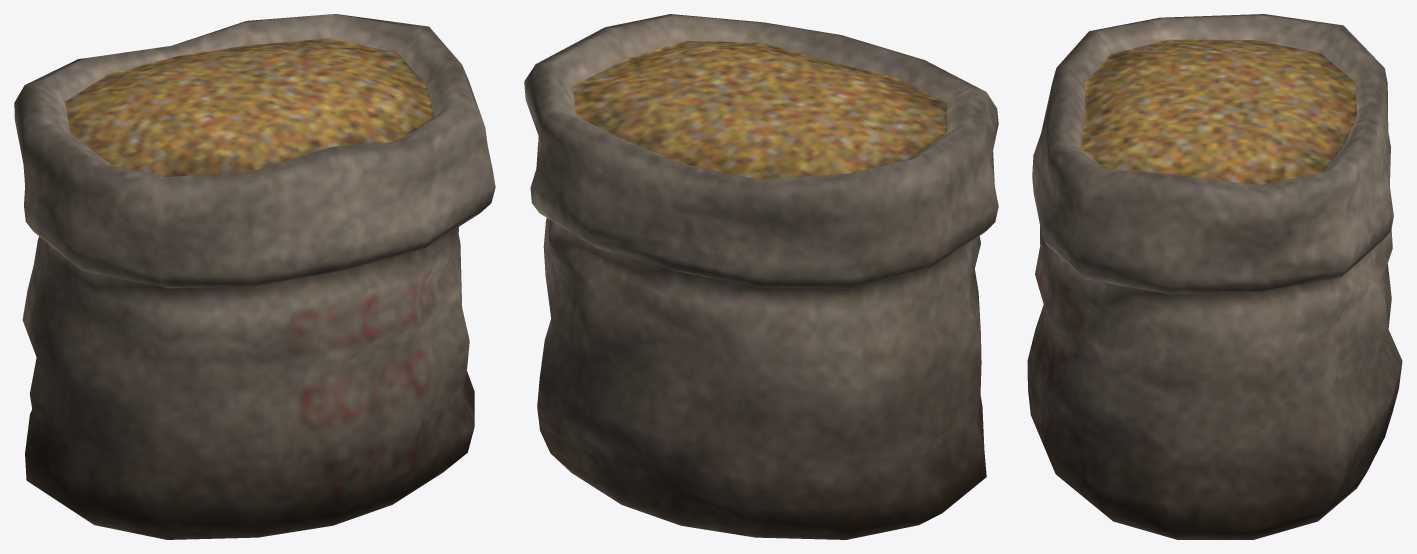
Rendered from SM_FAR_CornSack_Small_01.fbx.
3 renders of one model, left to right at view 1: azimuth 30°, elevation 25°; view 2: azimuth 150°, elevation 25°; view 3: azimuth 270°, elevation 25°, orthographic. The views are drawn at different scales.
Visible parts, largest first — view 1: SM_FAR_CornSack_Small_01.mo; view 2: SM_FAR_CornSack_Small_01.mo; view 3: SM_FAR_CornSack_Small_01.mo.
Part boxes in pixels (left/top/right/bottom): SM_FAR_CornSack_Small_01.mo: left=14, top=14, right=495, bottom=539; SM_FAR_CornSack_Small_01.mo: left=524, top=14, right=998, bottom=539; SM_FAR_CornSack_Small_01.mo: left=1027, top=14, right=1402, bottom=539.
Size of the model in its own units: 25.81 by 23.05 by 20.91.
